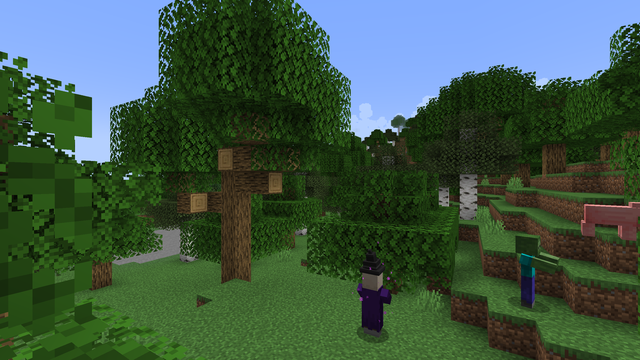cochons: (582, 203, 637, 240)
sorcieres: (359, 264, 384, 341)
zombies: (513, 234, 543, 311)
